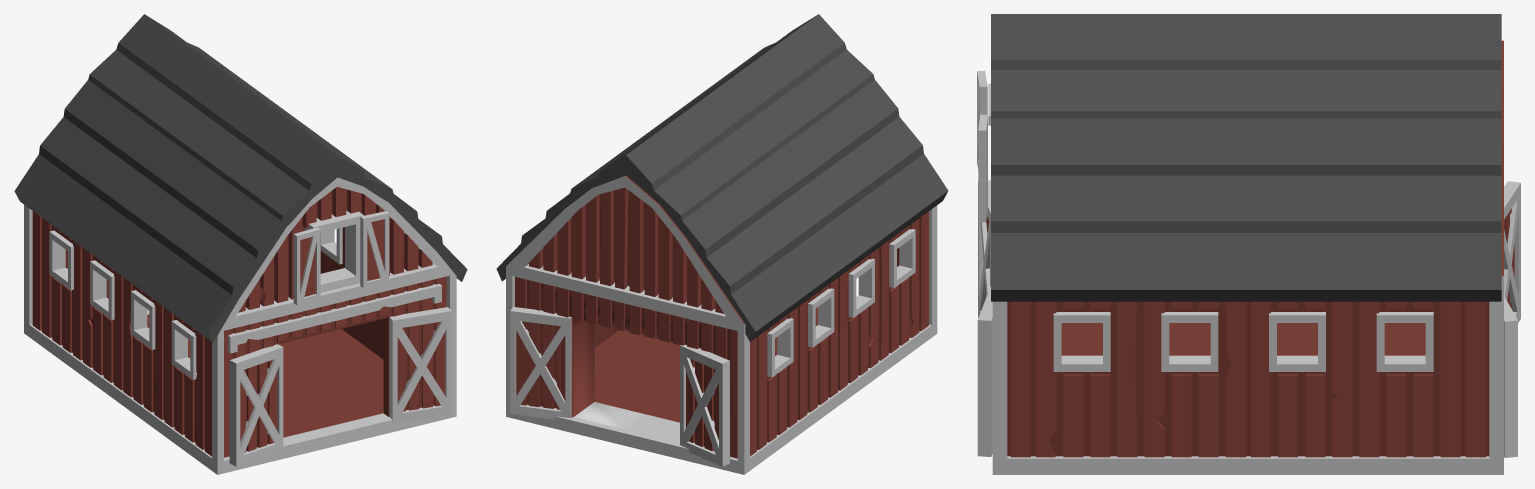
File: Destructable Barn 1 Model.fbx
The picture shows the model from 3 angles, left to right: view 1: azimuth 30°, elevation 25°; view 2: azimuth 150°, elevation 25°; view 3: azimuth 270°, elevation 25°; orthographic projection. The views are drawn at different scales.
Parts seen in each view (by area): view 1: 8, 9, 6, 7, 5, 13, 3, 2, 4, Barn_Door_Cube.002, 10, 11 (+5 smaller); view 2: 7, 8, 4, 9, 15, 1, 5, 12, 2, Barn_Door_Cube.001, 6, Barn_Door2_Cube.001 (+3 smaller); view 3: 17, 11, 14, 12, 18, 16, 10, 8, 15, 13, 7, 9 (+9 smaller).
Boxes of the visible parts, bbox=[...] form: 8: bbox=[104, 56, 323, 242]; 9: bbox=[185, 117, 380, 281]; 6: bbox=[155, 243, 343, 382]; 7: bbox=[45, 14, 240, 182]; 5: bbox=[74, 183, 185, 343]; 13: bbox=[319, 236, 467, 328]; 3: bbox=[166, 345, 331, 474]; 2: bbox=[85, 285, 190, 436]; 4: bbox=[14, 140, 103, 284]; Barn_Door_Cube.002: bbox=[389, 307, 451, 423]; 10: bbox=[283, 312, 456, 447]; 11: bbox=[278, 229, 383, 395]; 7: bbox=[583, 113, 783, 280]; 8: bbox=[642, 53, 865, 237]; 4: bbox=[617, 238, 814, 382]; 9: bbox=[725, 14, 917, 177]; 15: bbox=[496, 237, 662, 330]; 1: bbox=[630, 338, 805, 474]; 5: bbox=[784, 178, 895, 337]; 12: bbox=[506, 313, 679, 447]; 2: bbox=[775, 279, 885, 429]; Barn_Door_Cube.001: bbox=[510, 307, 571, 419]; 6: bbox=[866, 139, 948, 278]; Barn_Door2_Cube.001: bbox=[680, 344, 729, 466]; 17: bbox=[1130, 93, 1347, 227]; 11: bbox=[1129, 336, 1343, 474]; 14: bbox=[1129, 228, 1345, 337]; 12: bbox=[1340, 336, 1503, 474]; 18: bbox=[1345, 93, 1503, 227]; 16: bbox=[988, 93, 1130, 227]; 10: bbox=[992, 336, 1129, 474]; 8: bbox=[1130, 14, 1348, 93]; 15: bbox=[1343, 217, 1503, 337]; 13: bbox=[991, 228, 1129, 337]; 7: bbox=[1347, 14, 1503, 97]; 9: bbox=[988, 14, 1130, 110].
Bounding box in the file's own units: 618 × 661 × 849.
